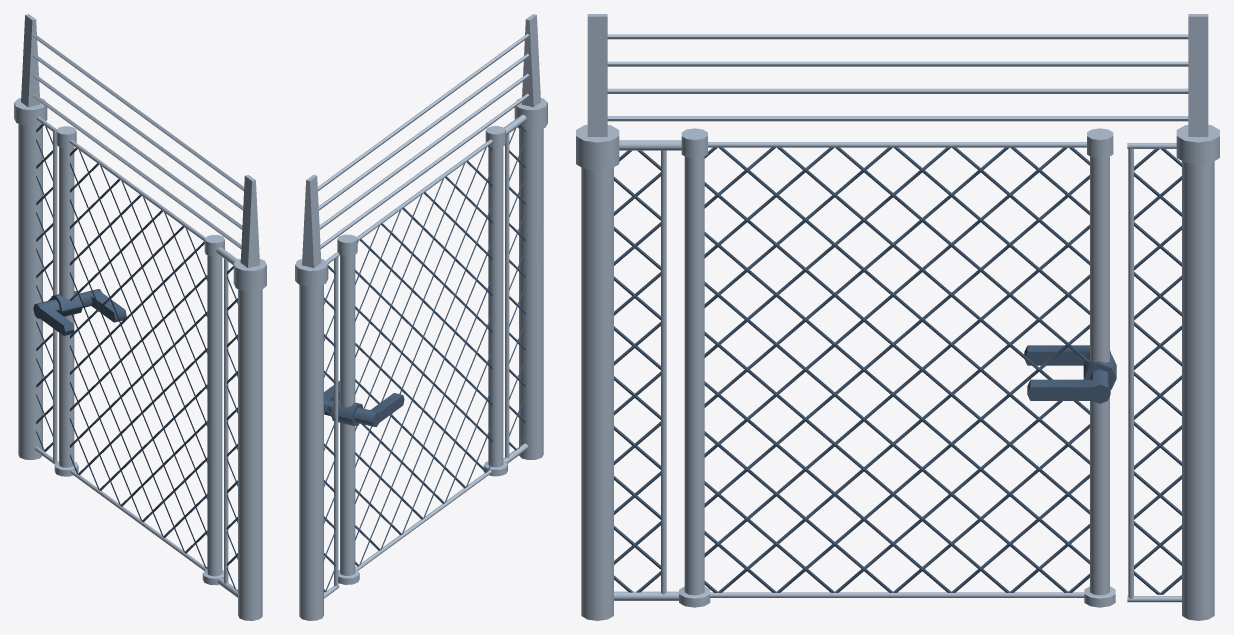
The model's file is Alambre_Puerta.fbx.
3 views of the same model, side by side, from view 1: azimuth 30°, elevation 25°; view 2: azimuth 150°, elevation 25°; view 3: azimuth 270°, elevation 25° (orthographic). The views are drawn at different scales.
Visible parts, largest first — view 1: Alambre_Puerta_01, Alambre_Puerta; view 2: Alambre_Puerta_01, Alambre_Puerta; view 3: Alambre_Puerta_01, Alambre_Puerta.
Boxes of the visible parts, box(x1,y1,x2,y2) form: Alambre_Puerta_01: box(14, 14, 266, 620); Alambre_Puerta: box(33, 126, 224, 585); Alambre_Puerta_01: box(295, 14, 547, 620); Alambre_Puerta: box(324, 126, 507, 584); Alambre_Puerta_01: box(576, 14, 1219, 620); Alambre_Puerta: box(679, 128, 1116, 607).
Bounding box in the file's own units: 0.9741 × 6.5 × 6.34.
